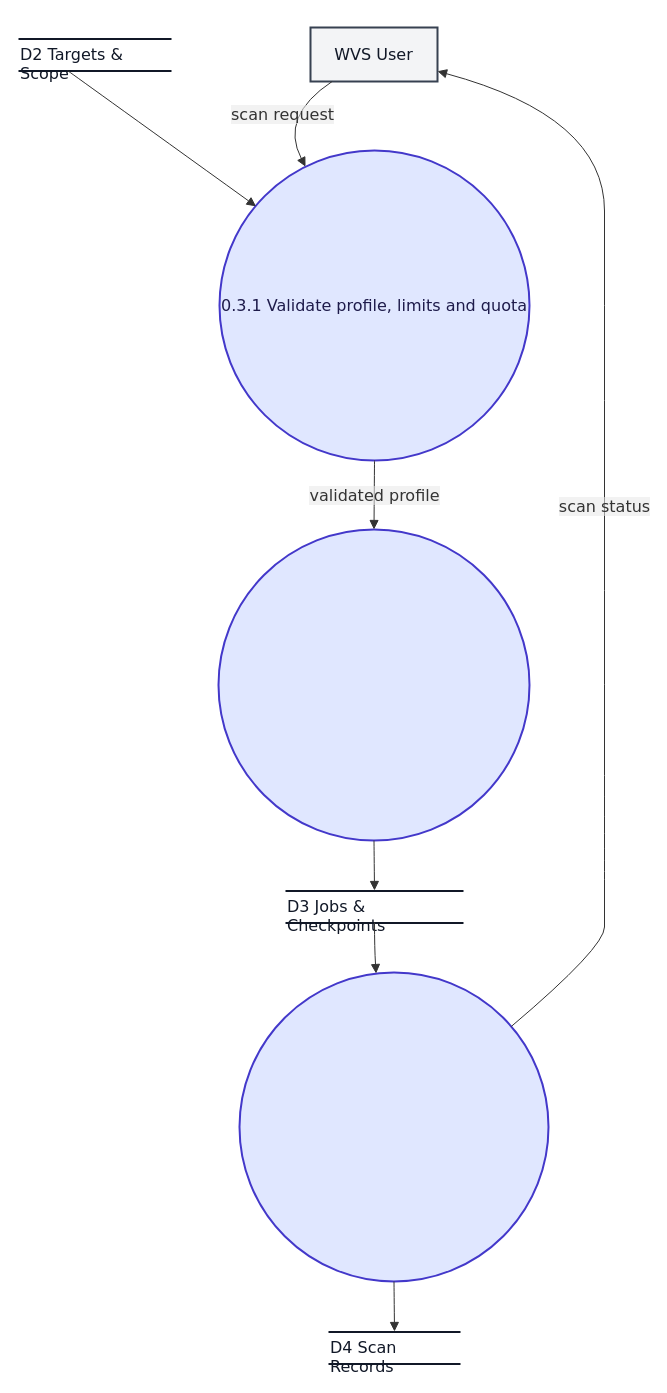
The diagram is 667 pixels wide and 1393 high, and some of its shapes have lost their labels. The shapes that lost their labels are listed below. From the top down, each one's centre as x and y in pixels, then its label:
point 373,684: 0.3.2 Queue scan or recurring schedule
point 393,1126: 0.3.3 Execute lifecycle and checkpoint
